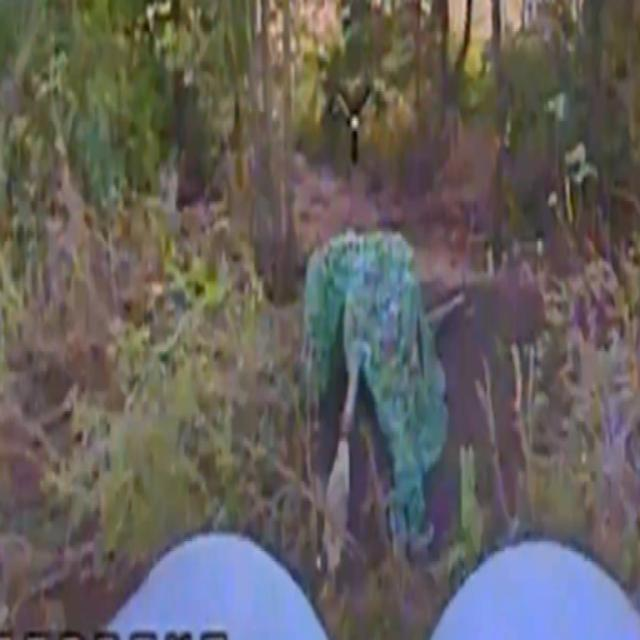ART: (292, 225, 463, 564)
